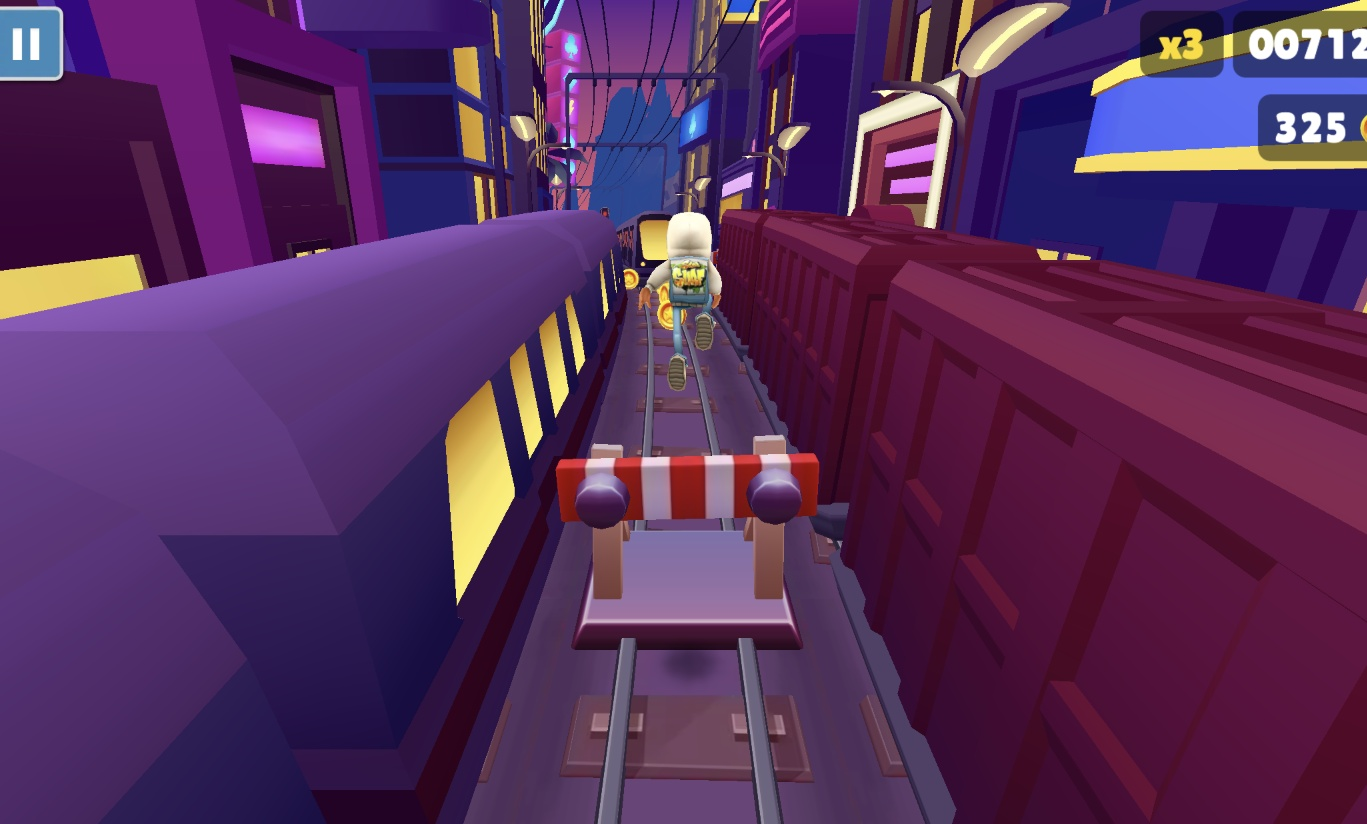ground_barrier: (556, 435, 820, 650)
train: (713, 209, 1367, 824), (0, 209, 630, 824), (617, 212, 680, 285)
